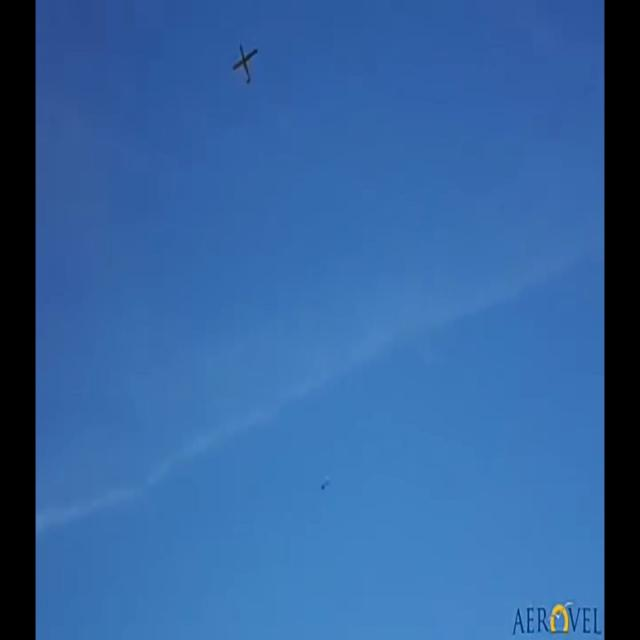iha: (231, 41, 258, 85)
